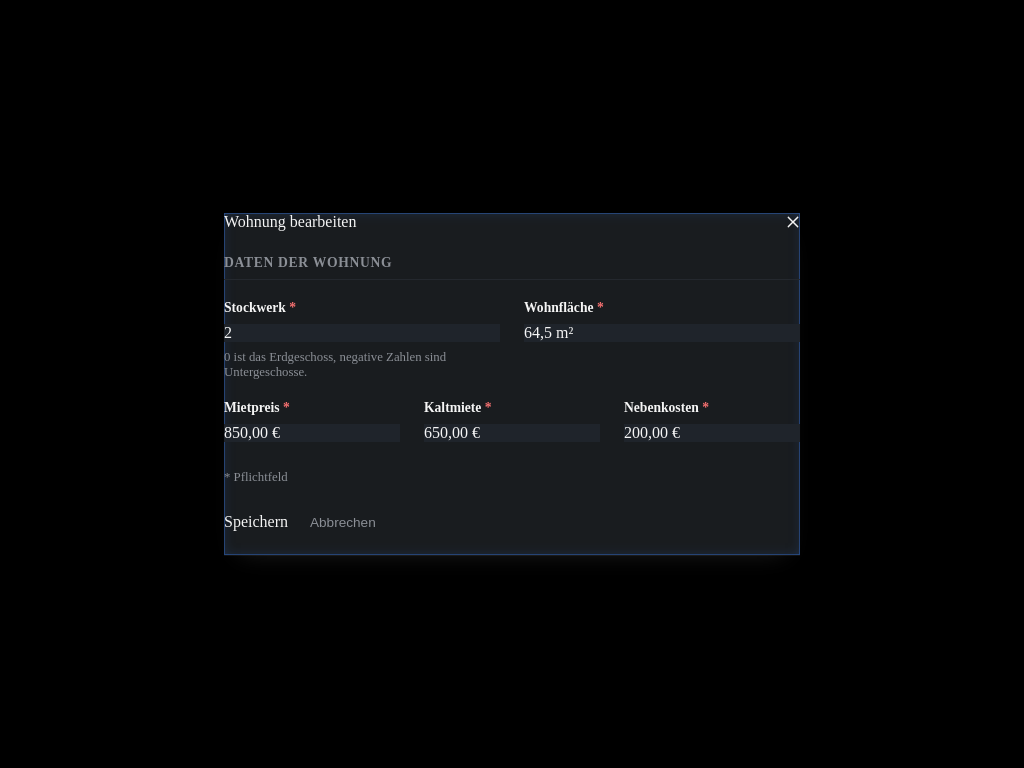
Test: ApartmentFormDialog › editing an apartment › asks from which month a changed total rent applies, defaulting to the current month
Replace the text in the number field with id "apartment-totalRent" with "900" at (312, 433), box x1=224 y1=424 x2=400 y2=442
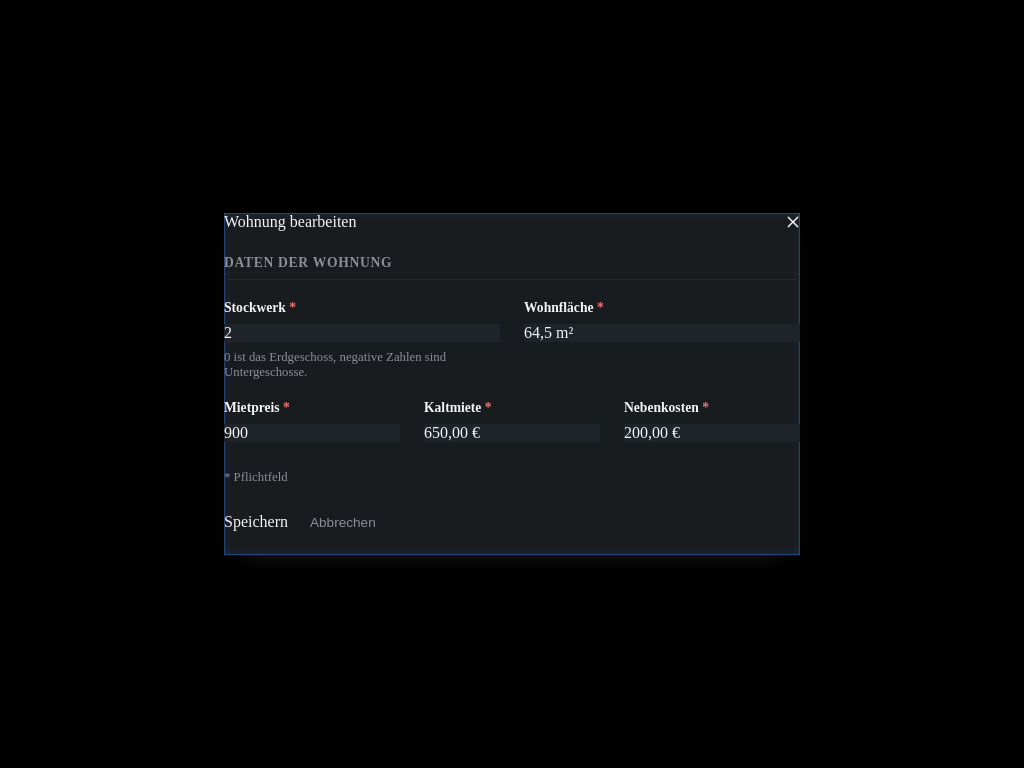
Leave the number field with id "apartment-totalRent", box x1=224 y1=424 x2=400 y2=442
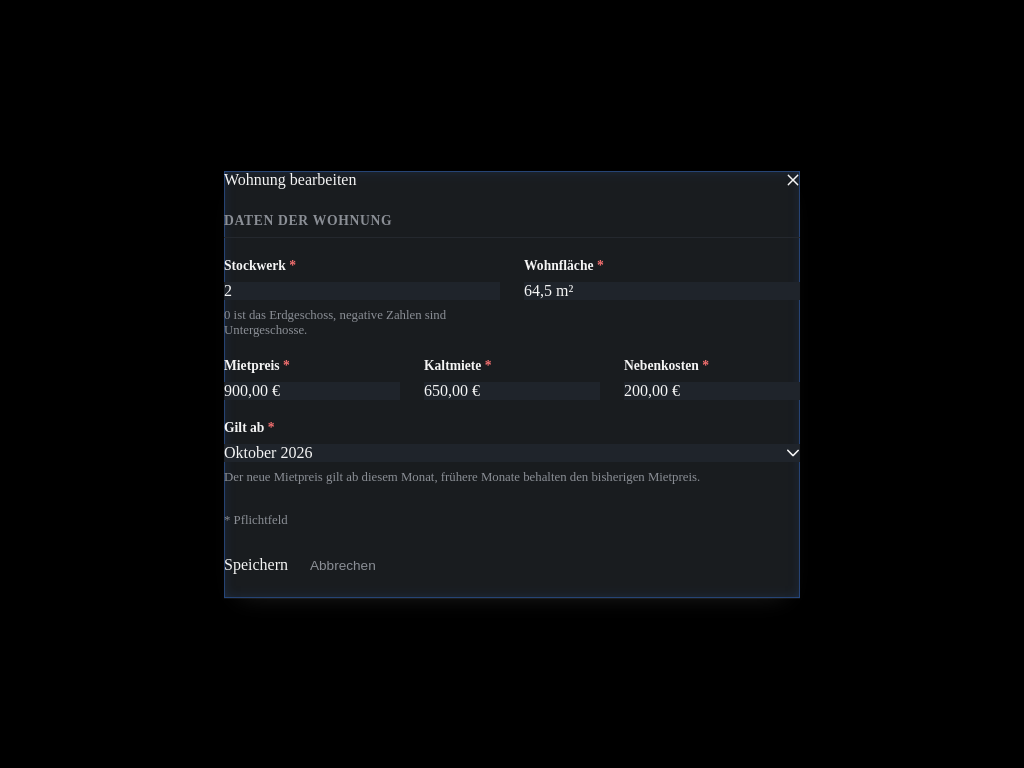
Result: the element showing "Oktober 2026" is shown at x1=224 y1=444 x2=800 y2=462
Result: the label "Gilt ab *" is shown at x1=224 y1=420 x2=275 y2=434
Result: the text "frühere Monate behalten den bisherigen Mietpreis" is shown at x1=224 y1=470 x2=700 y2=484
